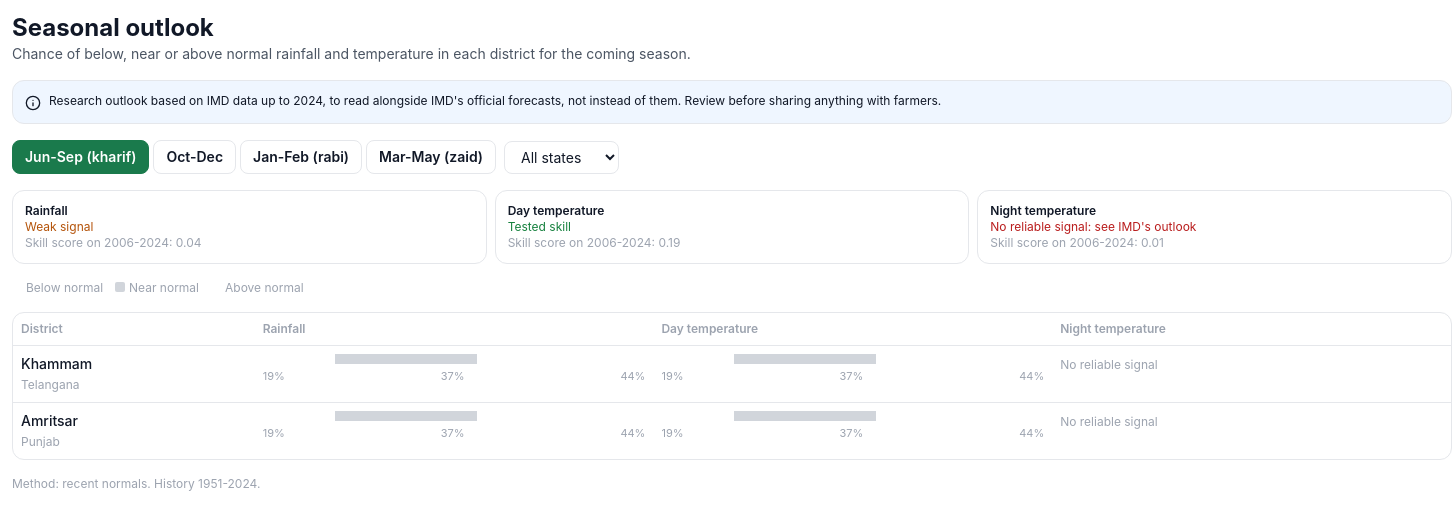
SeasonalOutlookPage › shows districts, labels weak and withheld variables, and filters by state
The width and height of the screenshot is (1452, 508).
expect the text "Khammam" is shown: met, box [21, 355, 92, 372]
expect the text "Weak signal" is shown: met, box [25, 219, 93, 234]
Select "Punjab" in the dropdown named "State" at (562, 157), box [504, 140, 619, 174]
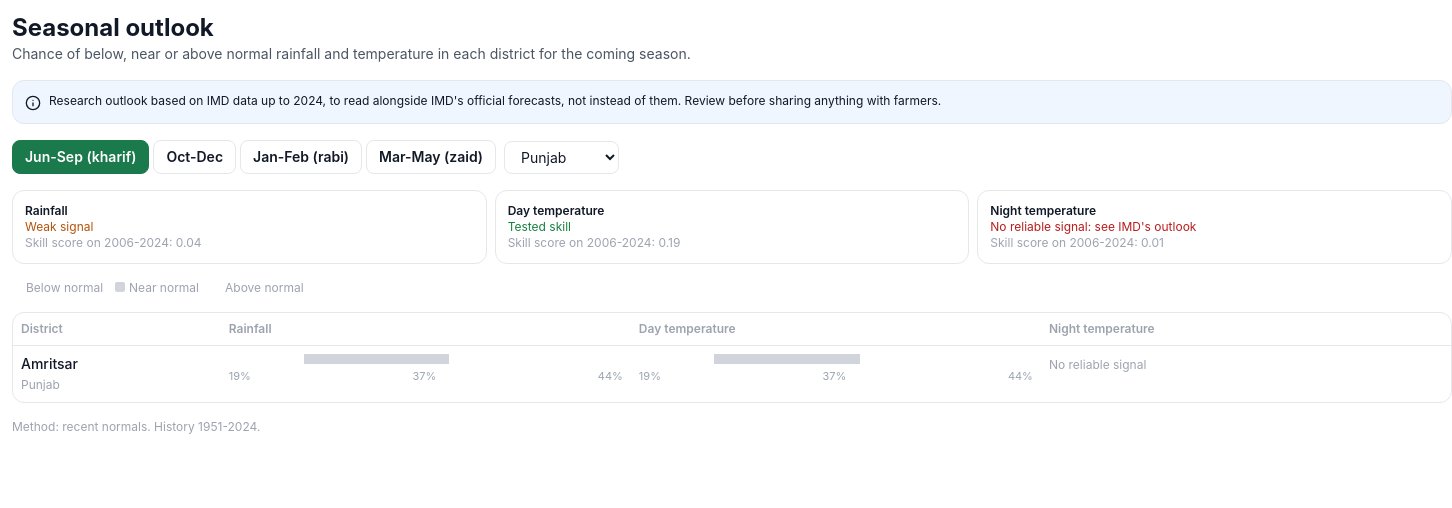
expect the text "Amritsar" is shown: met, box [21, 355, 78, 372]
expect the text "Khammam" is gone: met
